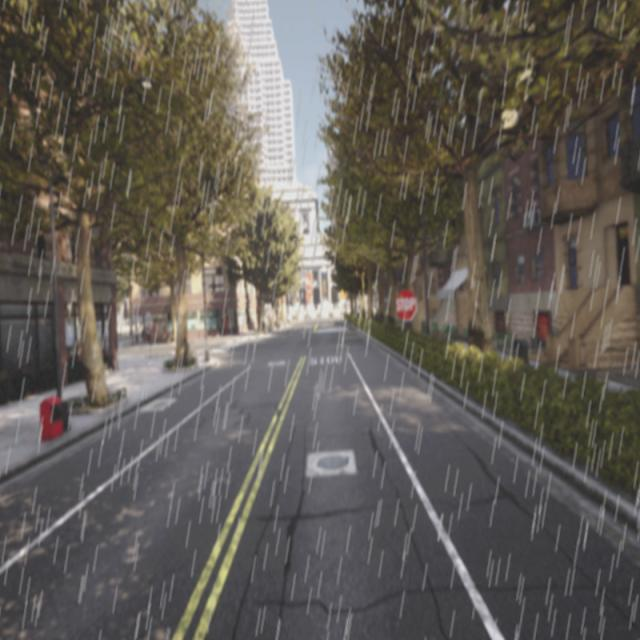stop sign: (393, 285, 419, 324)
